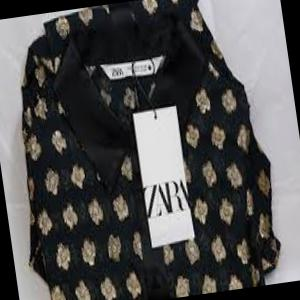zara: (144, 176, 192, 226)
